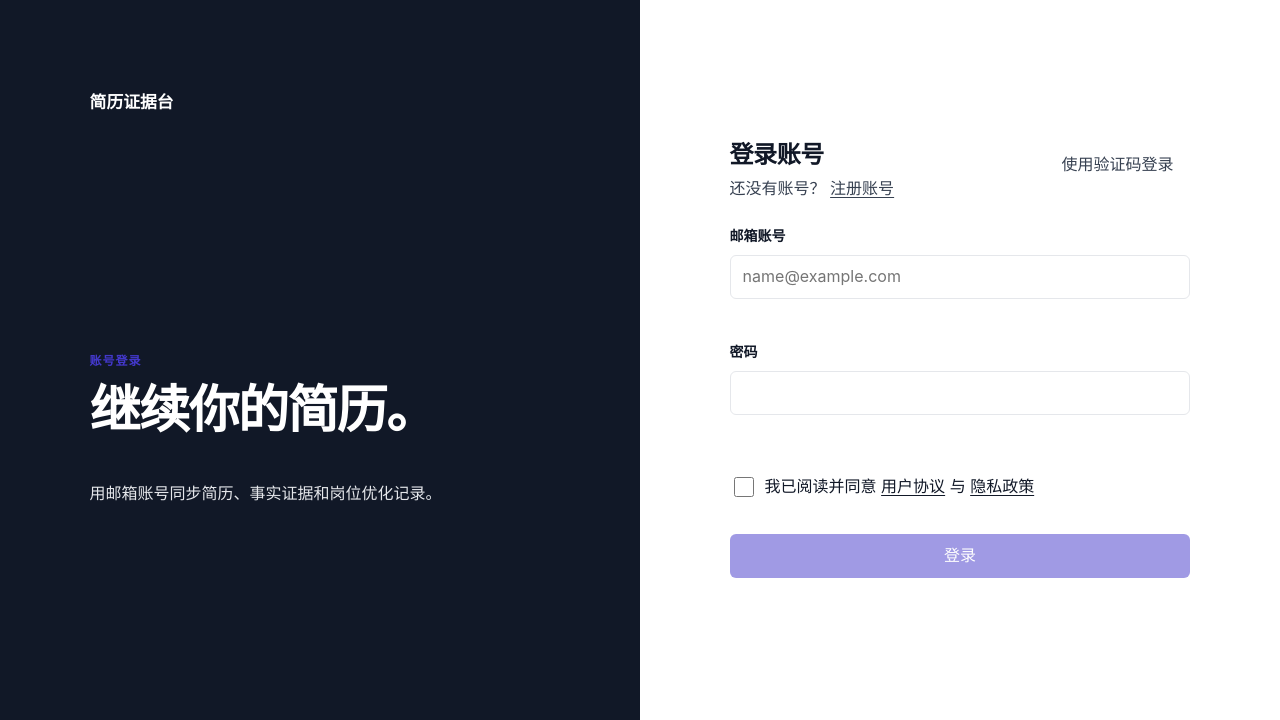
Test: email account pages › keeps email verification-code login as a fallback
The image size is (1280, 720).
Step 1. Click the button "使用验证码登录" → (1117, 164), box [1044, 142, 1190, 186]
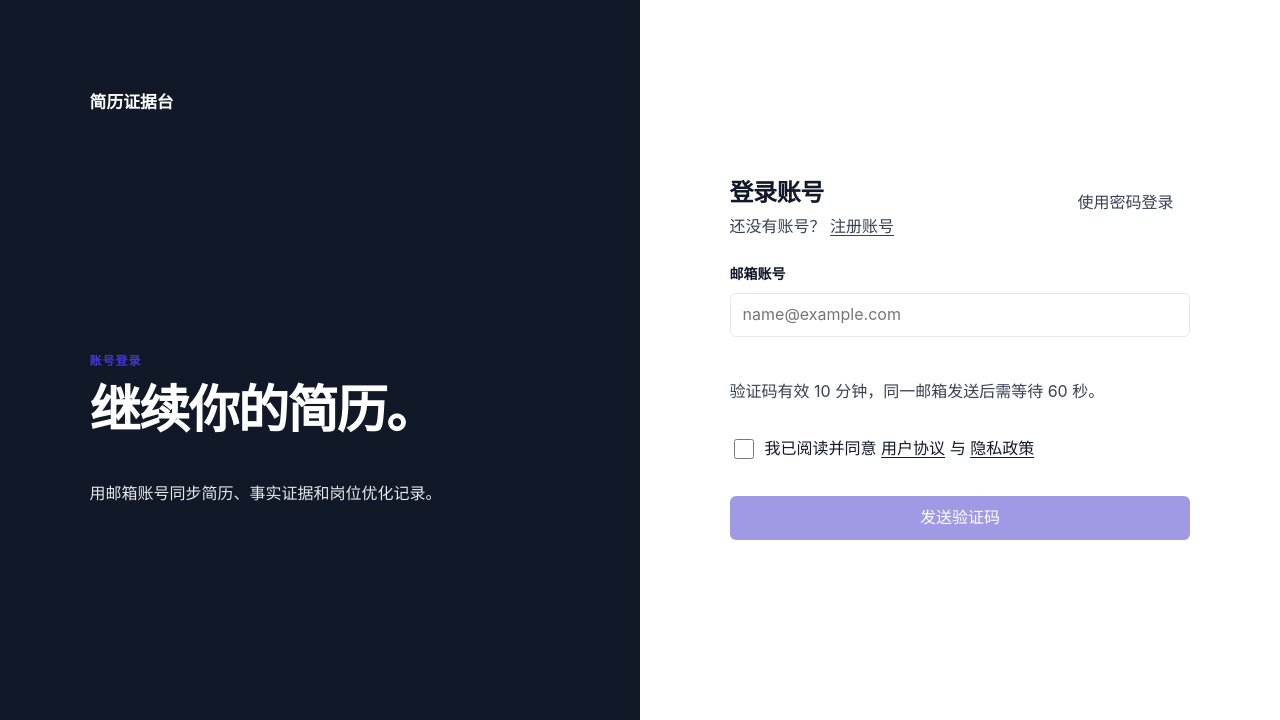
Result: the button "发送验证码" is shown at [730, 496, 1190, 540]
